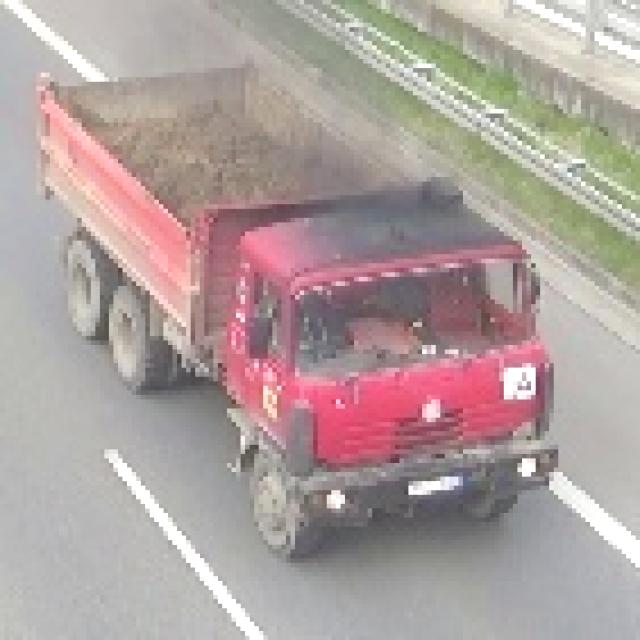truck: (28, 56, 555, 560)
